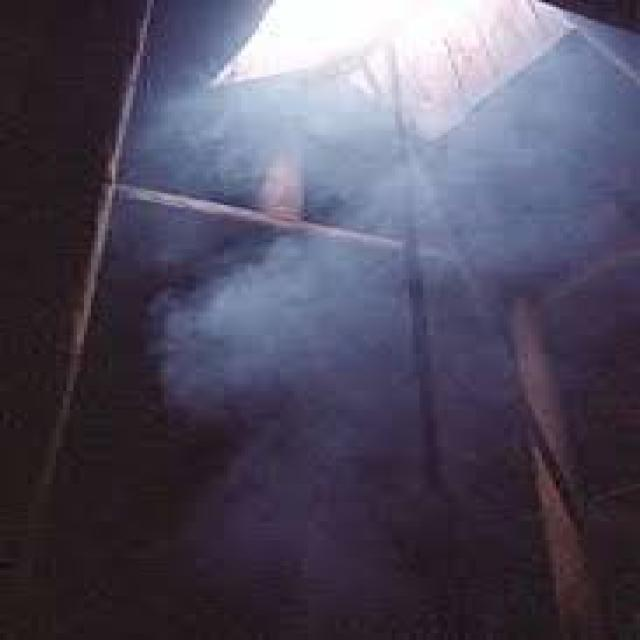smoke: (211, 100, 532, 564)
